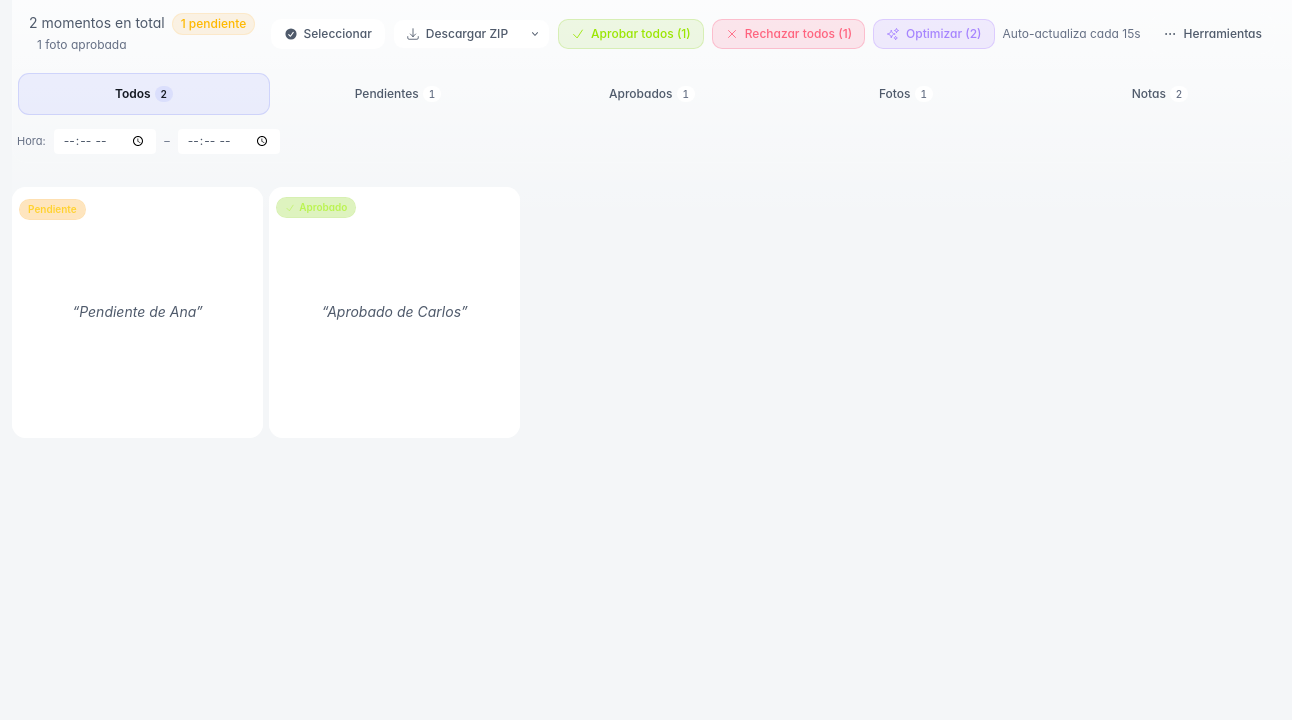
Test case: MomentsWall — filter tabs › "Aprobados" filter shows only approved moments
Click the button "Aprobados1" at point(652, 94), box [527, 74, 777, 114]
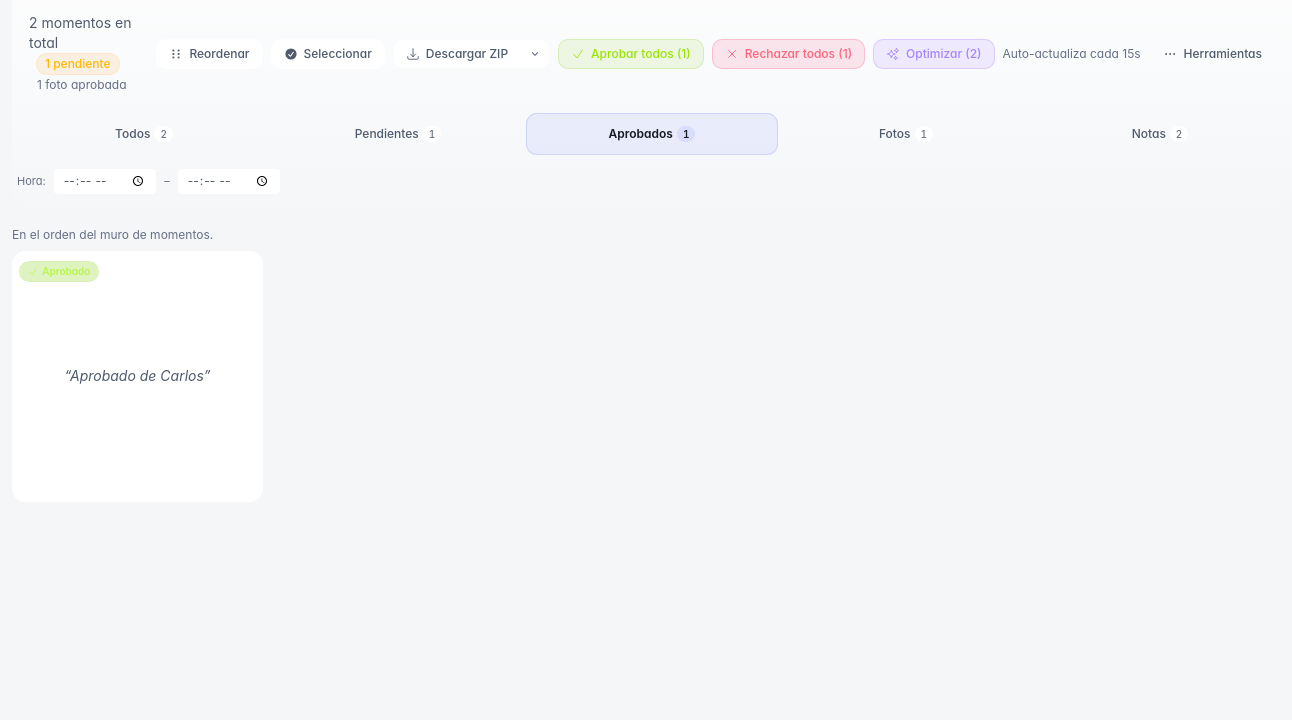
Expected: the text "“Aprobado de Carlos”" is shown, [65, 365, 211, 388]
Expected: the text "Pendiente de Ana" is gone
